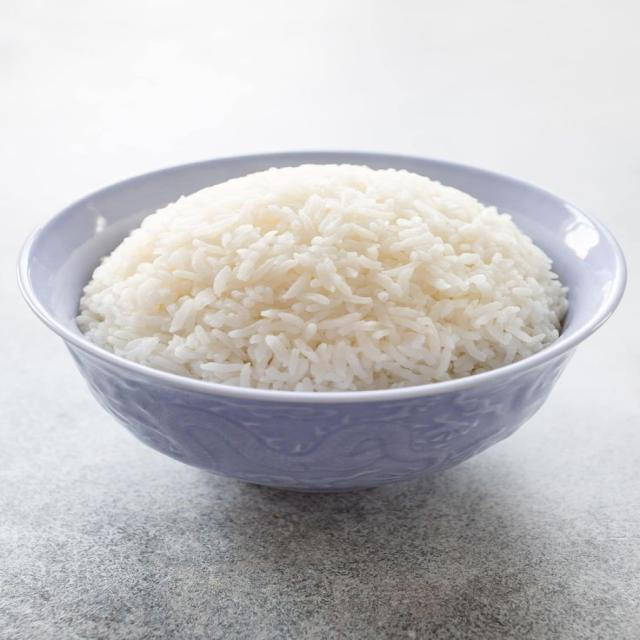rice: (79, 165, 566, 390)
